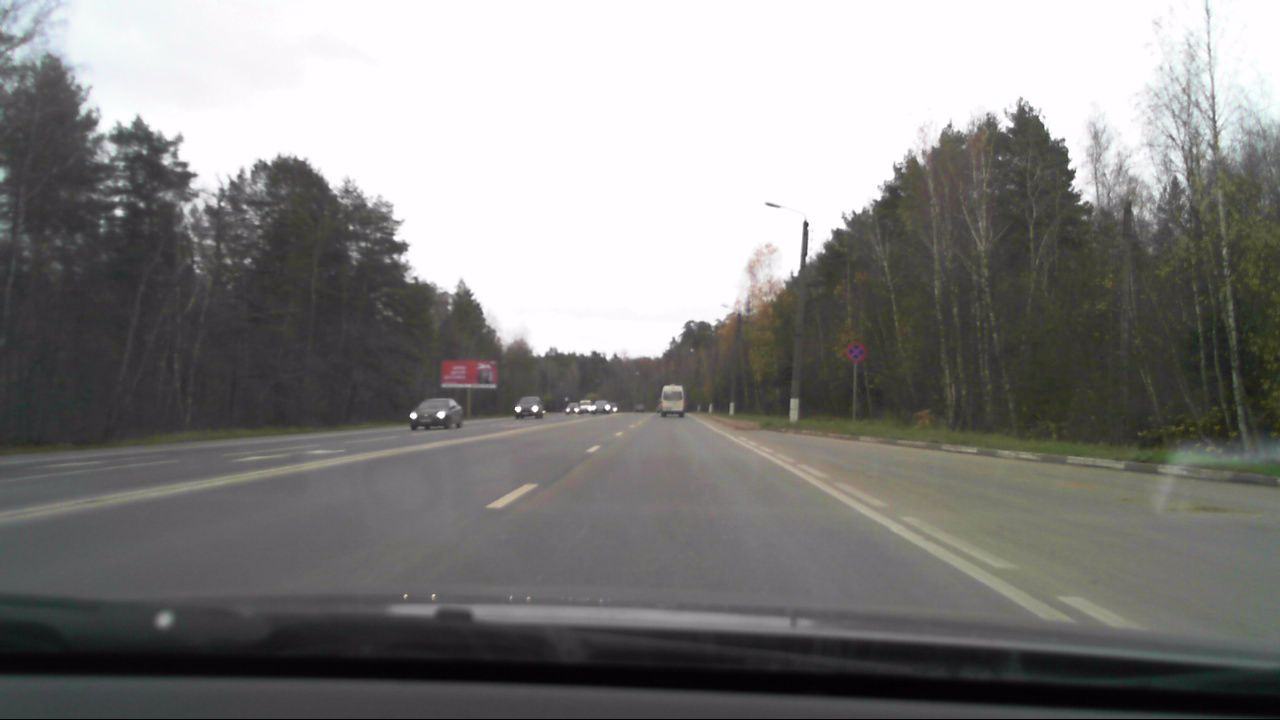No Parking: (848, 342, 865, 361)
